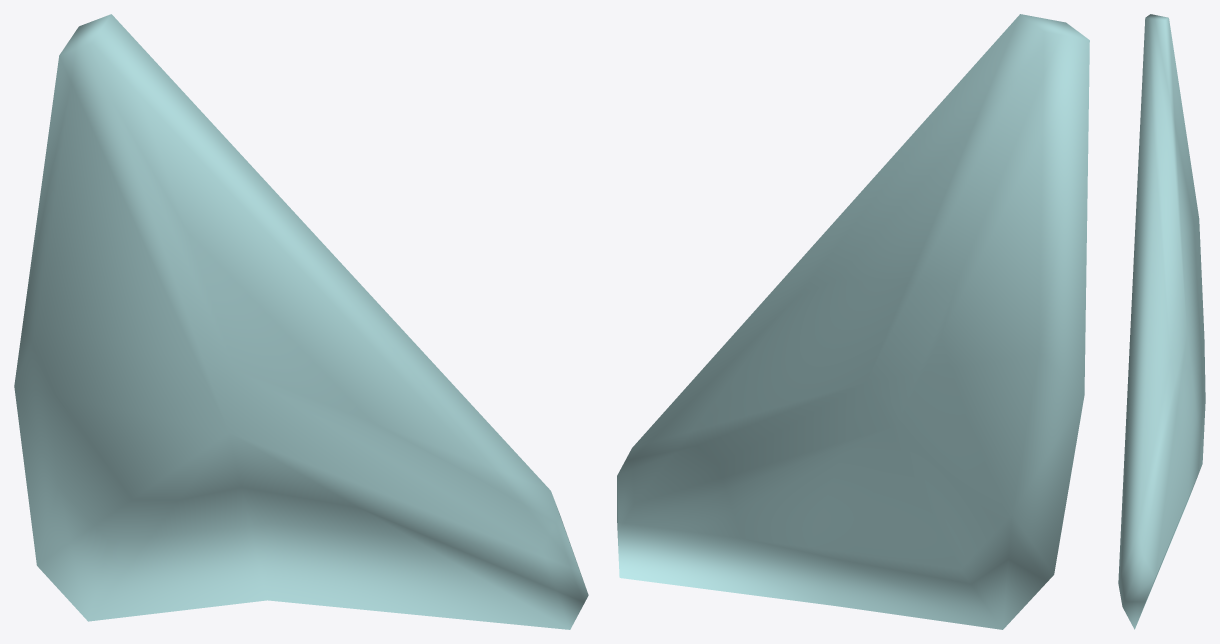
File: Shard_1_R.fbx
3 renders of one model, left to right at view 1: azimuth 30°, elevation 25°; view 2: azimuth 150°, elevation 25°; view 3: azimuth 270°, elevation 25°, orthographic. The views are drawn at different scales.
Visible parts, largest first — view 1: Shard_Rounded_1; view 2: Shard_Rounded_1; view 3: Shard_Rounded_1.
Boxes of the visible parts, x1=… form: Shard_Rounded_1: x1=14, y1=14, x2=588, y2=629; Shard_Rounded_1: x1=617, y1=14, x2=1089, y2=629; Shard_Rounded_1: x1=1118, y1=14, x2=1205, y2=629.
Size of the model in its own units: 752 by 962 by 163.
